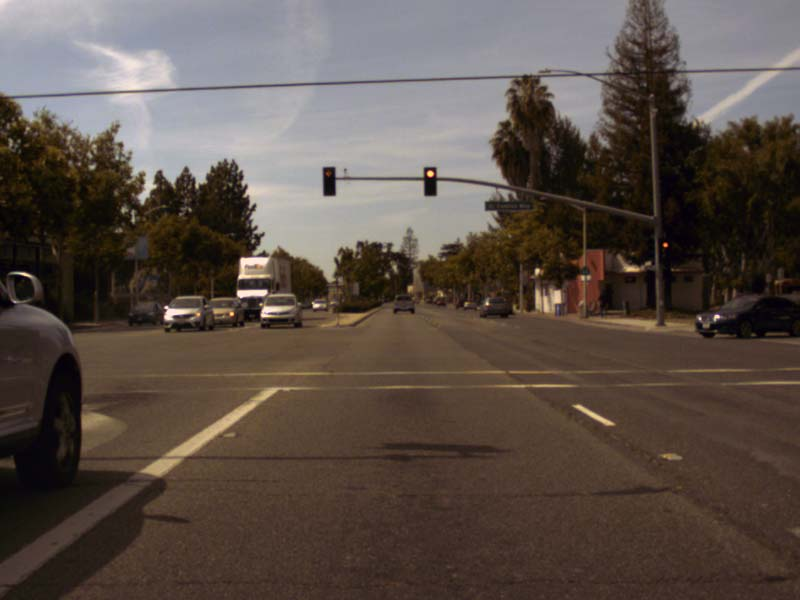Red: (424, 167, 435, 195), (323, 167, 334, 195), (659, 238, 669, 262)
